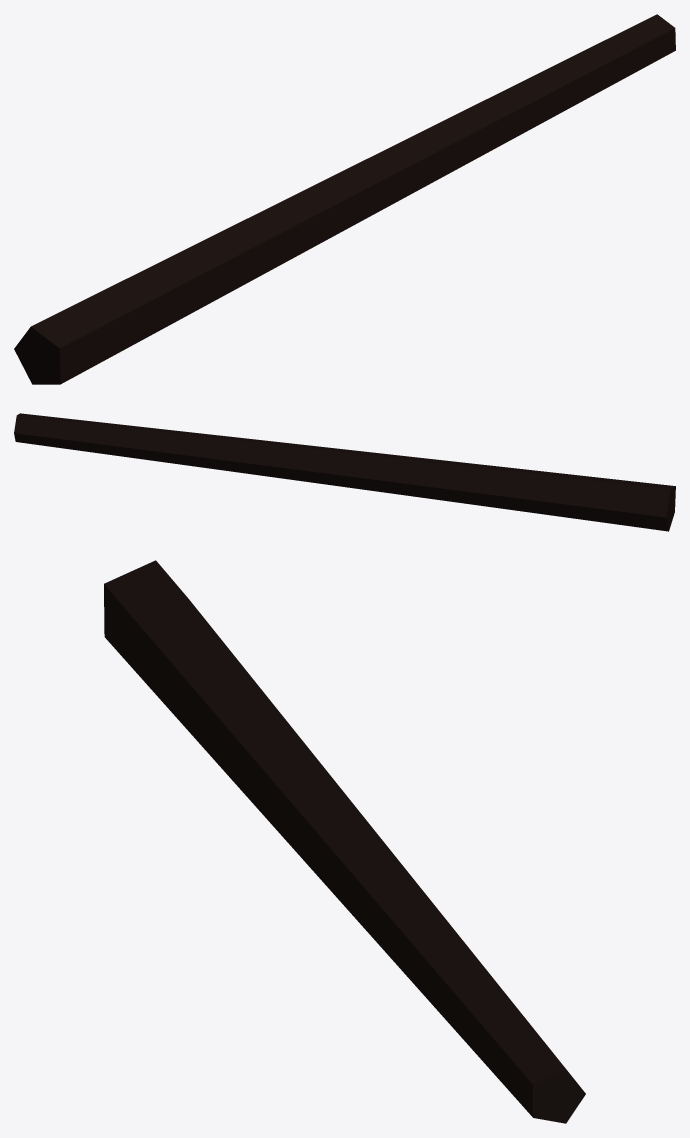
Rendered from Wood_Stick_02.fbx.
The picture shows the model from 3 angles, top to bottom: view 1: azimuth 30°, elevation 25°; view 2: azimuth 150°, elevation 25°; view 3: azimuth 270°, elevation 25°; orthographic projection. The views are drawn at different scales.
Visible parts, largest first — view 1: Wood_Stick_02_Mesh; view 2: Wood_Stick_02_Mesh; view 3: Wood_Stick_02_Mesh.
Part boxes in pixels (box(x1,y1,x2,y2)): Wood_Stick_02_Mesh: box(14, 14, 675, 384); Wood_Stick_02_Mesh: box(14, 413, 675, 531); Wood_Stick_02_Mesh: box(104, 560, 585, 1123).
Size of the model in its own units: 0.9225 by 0.0892 by 0.3436.
Materials: 1 (1 with a texture image).
